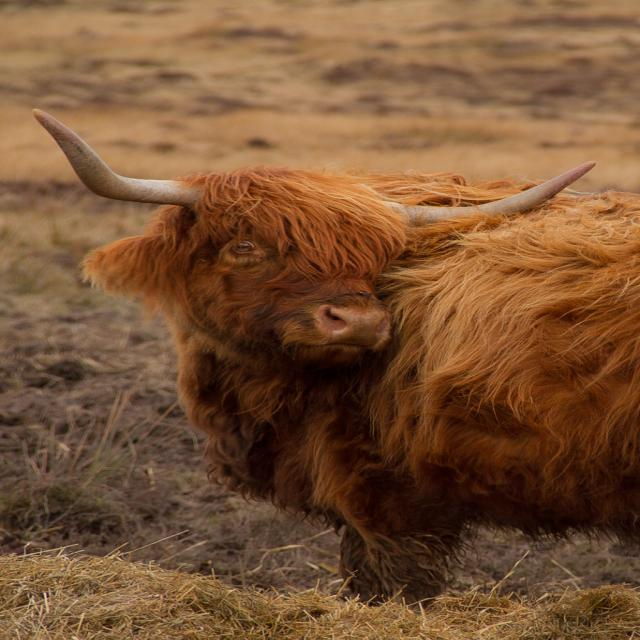Deer: (21, 110, 640, 606)
